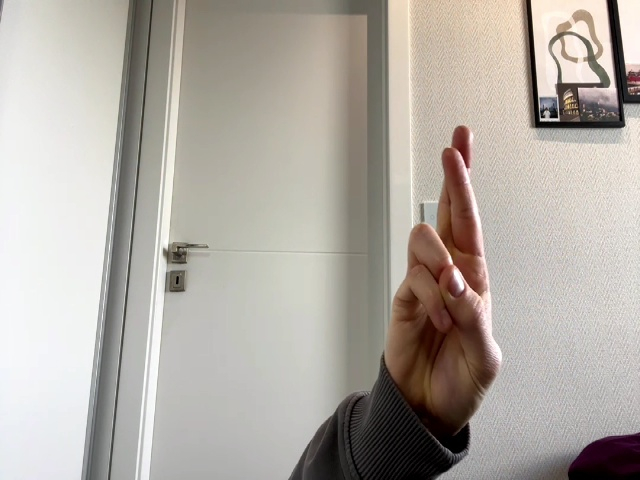R: (385, 126, 503, 416)
